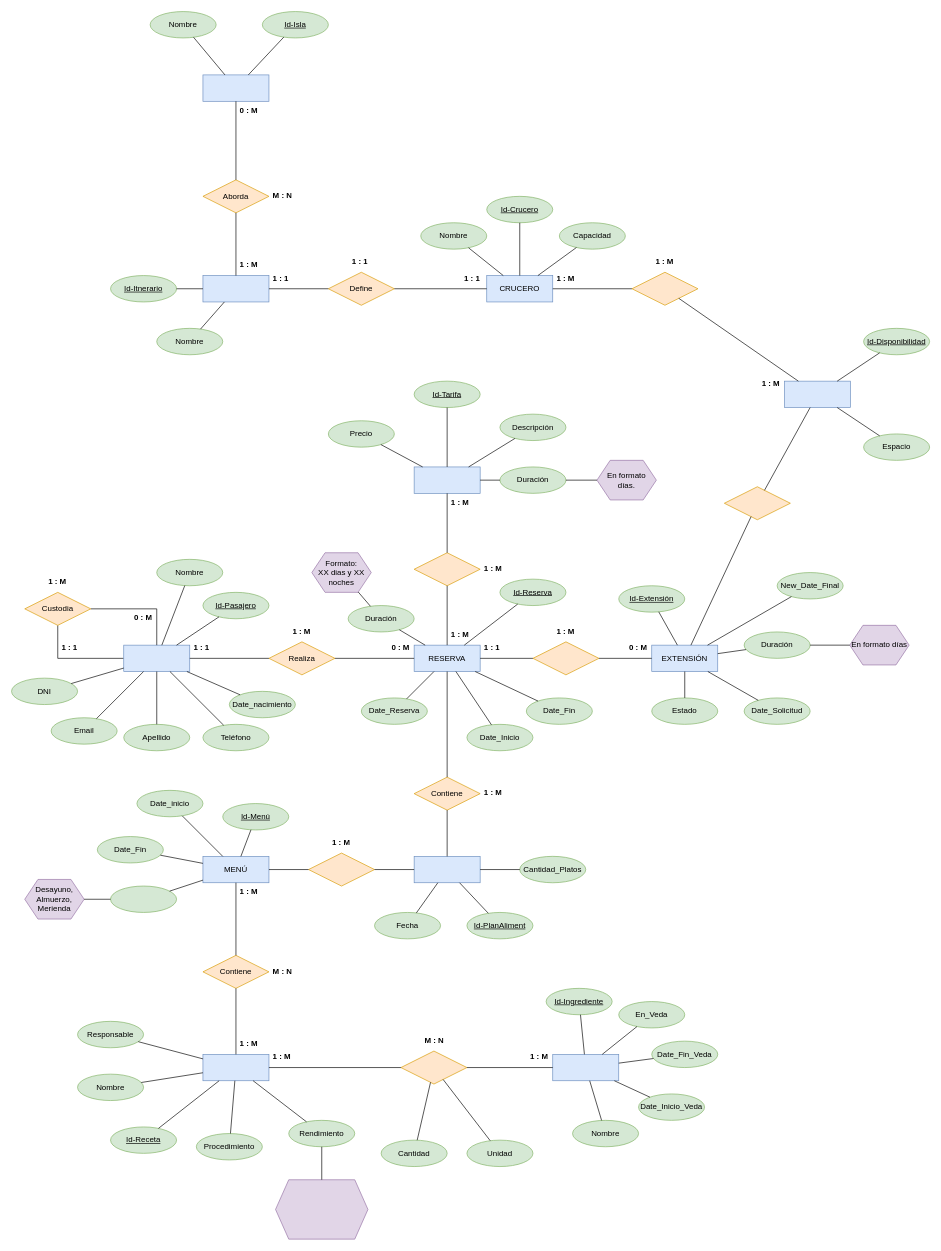
Some shapes in this 941 by 1251 pixel diagram are drawn without their labels. Each missing label, with the centre of its shape:
Analiza: point (757, 503)
Aplica: point (446, 569)
Asocia: point (433, 1067)
Crea: point (341, 869)
DISPONIBILIDAD: point (817, 394)
INGREDIENTES: point (585, 1067)
ISLA: point (235, 87)
ITINERARIO: point (235, 288)
Número de porciones que se pueden hacer con la receta: point (321, 1209)
PASAJERO: point (156, 658)
PLAN_ALIMENT: point (446, 869)
Puede: point (565, 658)
RECETA: point (235, 1067)
TARIFA: point (446, 479)
Tiene: point (664, 288)
Tipo: point (143, 898)
